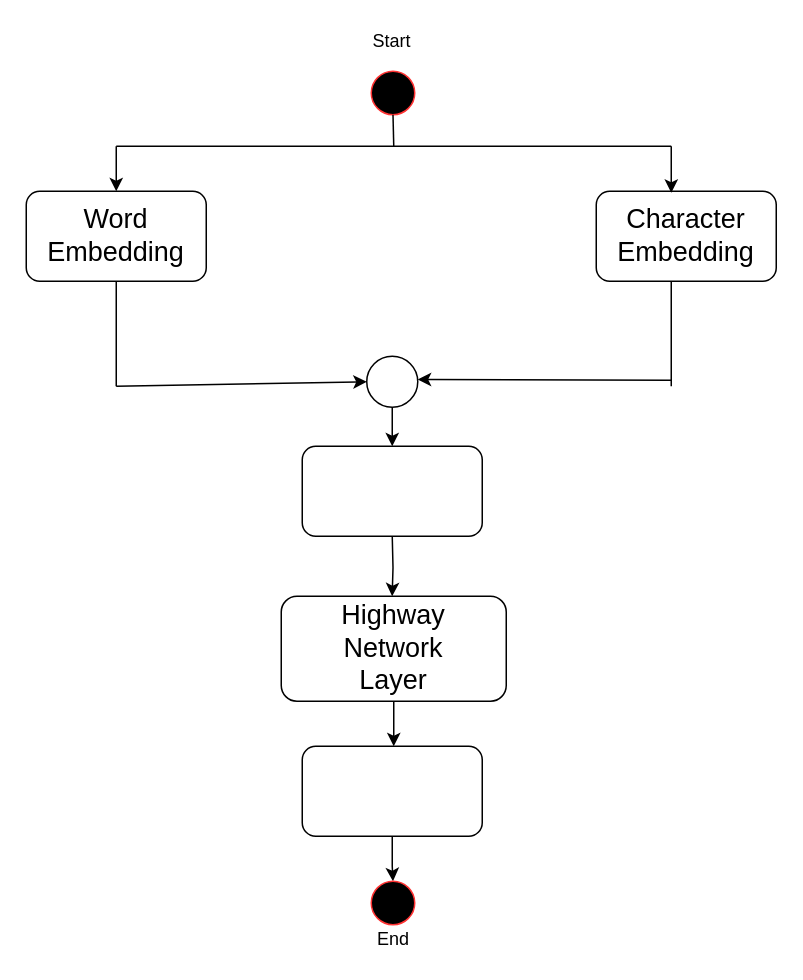
Some shapes in this 803 by 980 pixel diagram are drawn without their labels. Here are the shapes that lost their labels. From the top down, the centre of each, then its label:
At point (391, 490): "Concatenate".
At point (391, 790): "Contexual Embedding".
